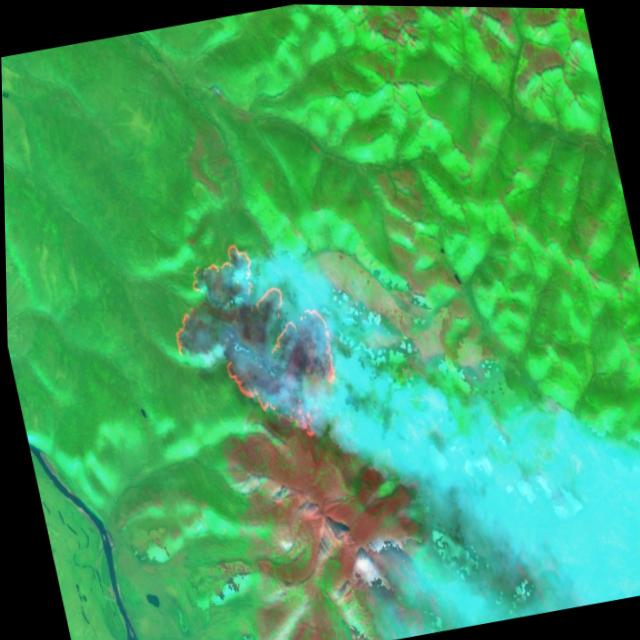fire: (149, 219, 357, 468)
